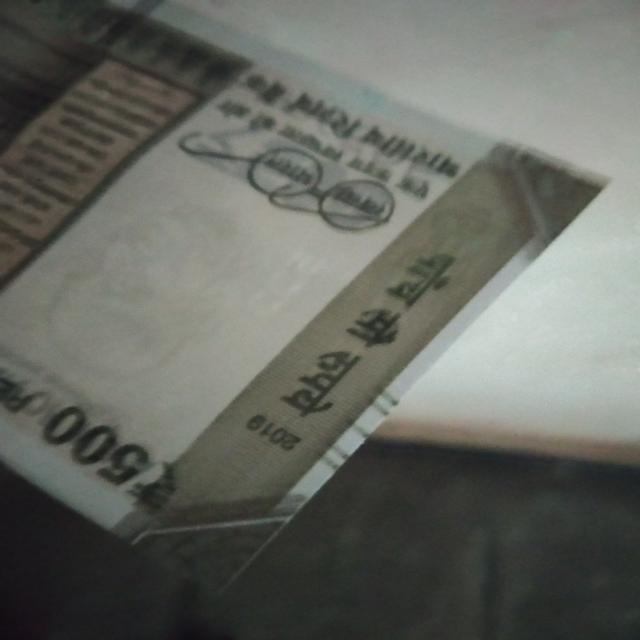500rs: (2, 2, 601, 582)
